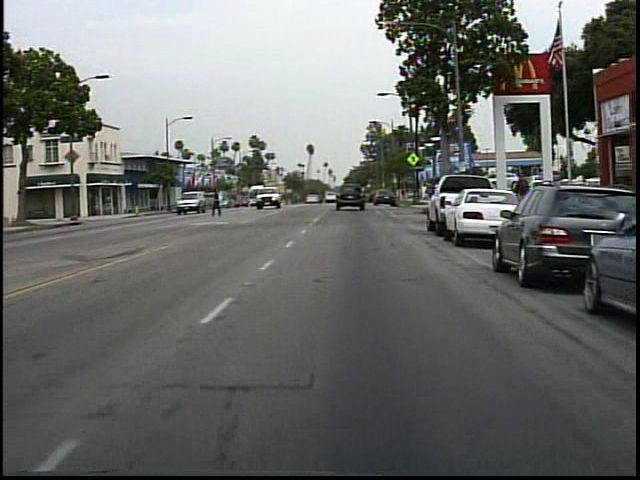person: (509, 169, 537, 225), (210, 185, 228, 220)
